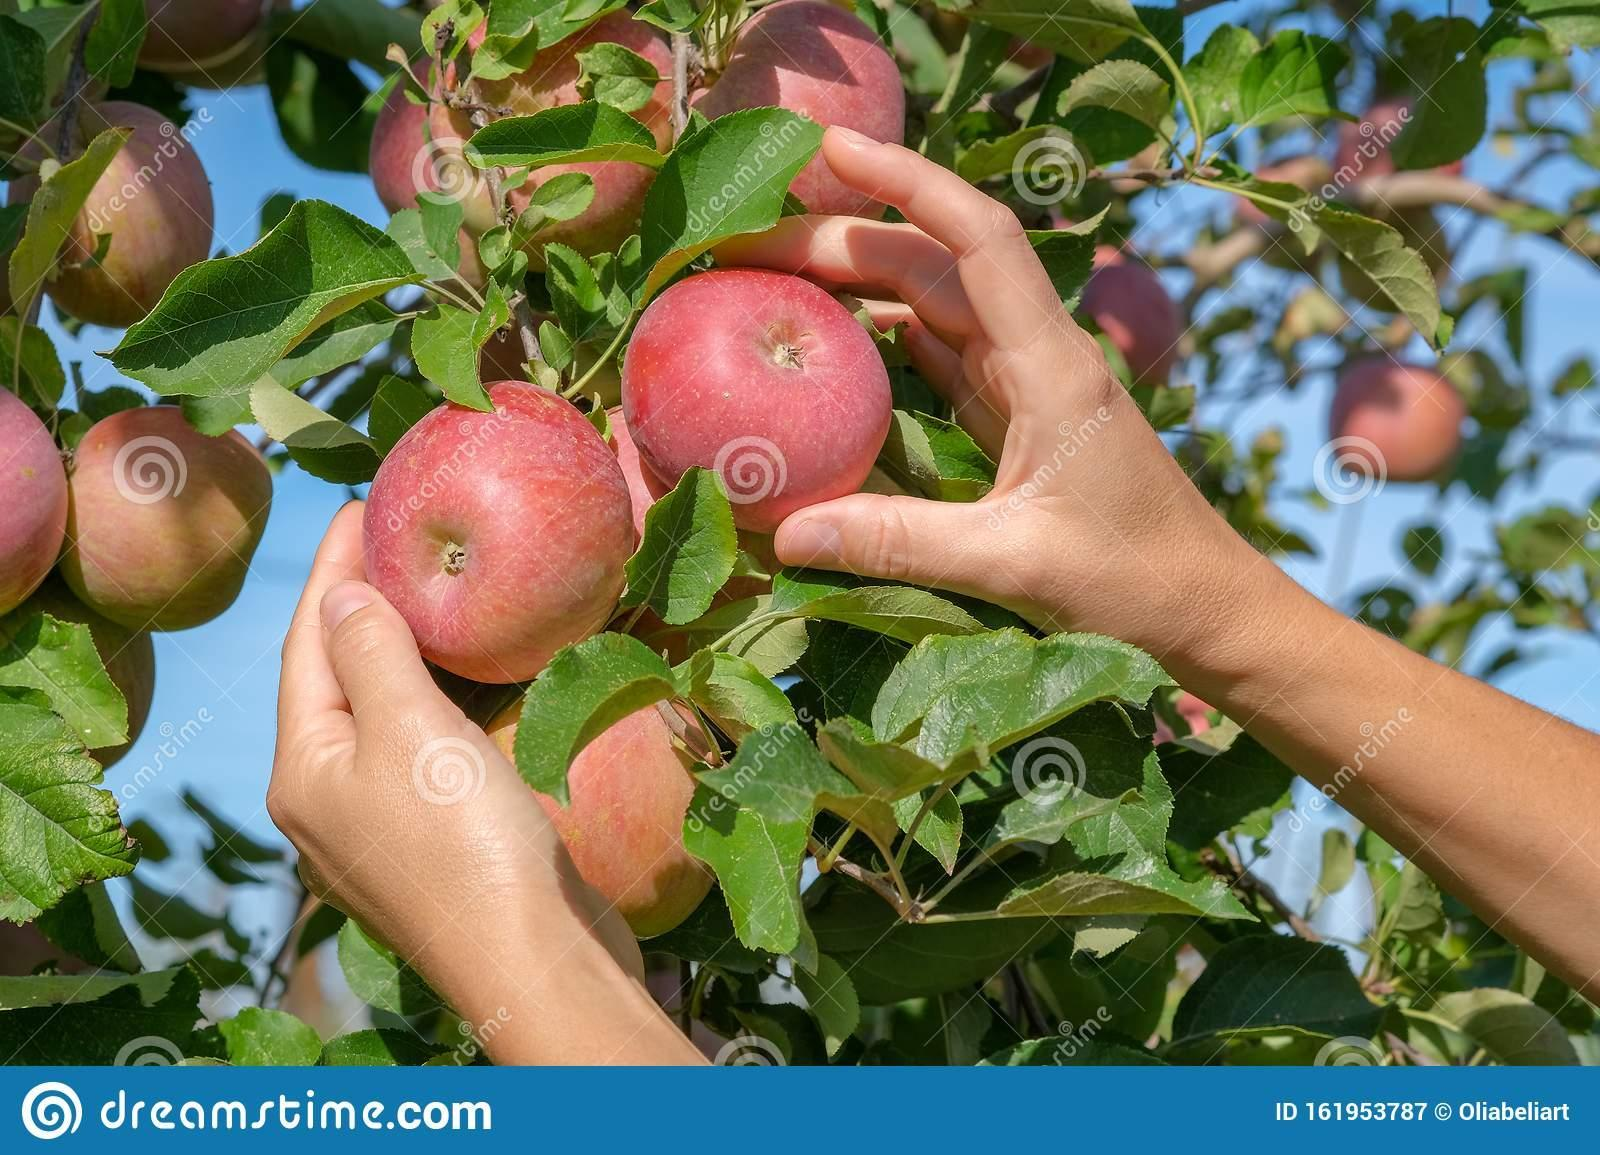apple: (361, 386, 640, 682), (373, 11, 681, 273), (621, 267, 889, 525), (491, 686, 730, 936), (58, 406, 280, 636), (681, 9, 911, 229), (32, 103, 220, 332), (1, 389, 65, 614)
